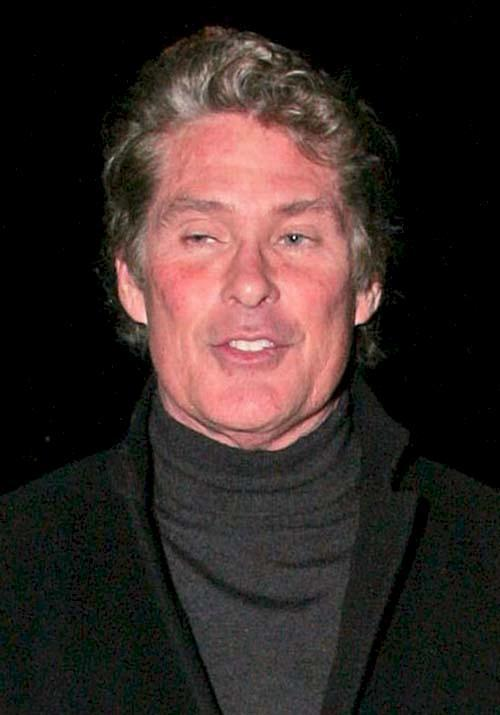Drunk: (149, 127, 347, 415)
